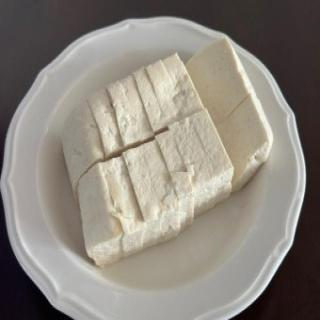Tahu: (61, 41, 273, 268)
